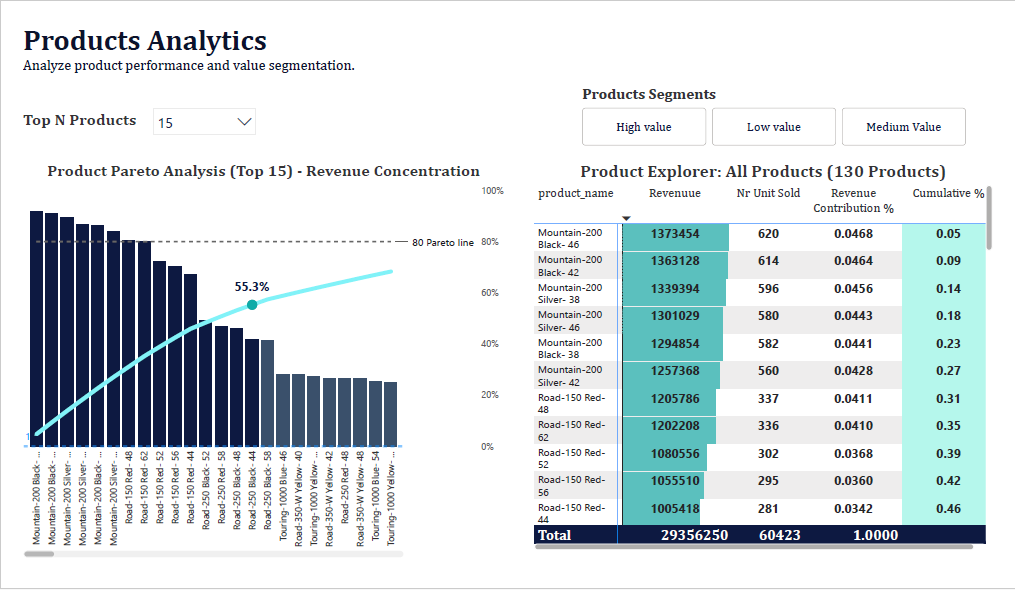

Layout of this report page (visuals, bound fields, positions):
{"tool":"powerbi","page":{"name":"Products Analytics","canvas":[1280,720],"ordinal":1},"visuals":[{"type":"textbox","box":[0,0,583.3,95],"z":0},{"type":"slicer","title":"Top N Products","fields":{"Values":["Top N Products.Top N Products"]},"box":[165,110,155,60],"z":1000},{"type":"lineClusteredColumnComboChart","fields":{"Category":["gold dim_products.product_name"],"Y":["gold fact_sales.Total_Sales"],"Y2":["gold fact_sales.Cumulative %","gold fact_sales.80 Pareto line","Created_measures.Pareto Marker"]},"box":[0,185.4,640,523.8],"z":2000},{"type":"pivotTable","fields":{"Rows":["gold dim_products.product_name"],"Values":["Created_measures.Total_Sales","Created_measures.Total_Quantity","Created_measures.Product Sales Contribution %","Created_measures.Cumulative %"]},"box":[669.4,185.4,609.1,514.9],"z":3000},{"type":"advancedSlicerVisual","title":"Products Segments","fields":{"Values":["Product Segments.Segments"]},"box":[731.8,85.2,512.8,85.2],"z":4000},{"type":"textbox","box":[0,113.3,191.7,46.7],"z":5000}]}

Visuals, with their boxes on the page's 1280x720 design canvas (x1, y1, x2, y2). These are canvas units, not pixel positions in the 1015x590 screenshot, which may show the page scaled, cropped or inside an application window:
textbox: crop(0, 0, 583, 95)
"Top N Products" slicer: crop(165, 110, 320, 170)
lineClusteredColumnComboChart - gold dim_products.product_name x gold fact_sales.Total_Sales: crop(0, 185, 640, 709)
pivotTable - gold dim_products.product_name x Created_measures.Total_Sales: crop(669, 185, 1278, 700)
"Products Segments" advancedSlicerVisual: crop(732, 85, 1245, 170)
textbox: crop(0, 113, 192, 160)
